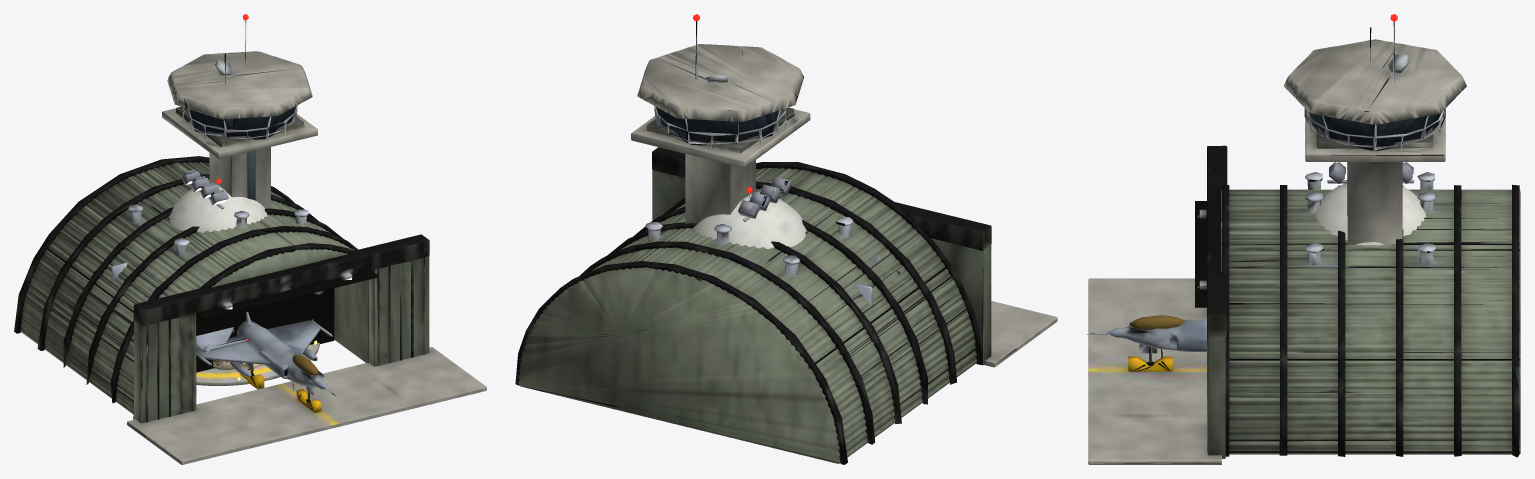
File: modern_decor_military.glb
3 views of the same model, side by side, from view 1: azimuth 30°, elevation 25°; view 2: azimuth 150°, elevation 25°; view 3: azimuth 270°, elevation 25° (orthographic). The views are drawn at different scales.
Parts seen in each view (by area): view 1: Hangar, Tower, Radome, Heli, Jet, LightTower; view 2: Hangar, Tower, Radome, LightTower; view 3: Hangar, Tower, Radome, LightTower.
Part boxes in pixels (x1=…): Hangar: x1=14, y1=156, x2=486, y2=464; Tower: x1=162, y1=14, x2=317, y2=332; Radome: x1=169, y1=178, x2=267, y2=232; Heli: x1=145, y1=293, x2=319, y2=385; Jet: x1=111, y1=262, x2=250, y2=353; LightTower: x1=182, y1=169, x2=228, y2=209; Hangar: x1=515, y1=147, x2=1057, y2=464; Tower: x1=631, y1=14, x2=810, y2=228; Radome: x1=693, y1=187, x2=806, y2=248; LightTower: x1=738, y1=177, x2=791, y2=221; Hangar: x1=1087, y1=145, x2=1520, y2=464; Tower: x1=1283, y1=14, x2=1466, y2=244; Radome: x1=1315, y1=183, x2=1426, y2=245; LightTower: x1=1327, y1=162, x2=1414, y2=183.
Bounding box in the file's own units: 4.6 × 4.51 × 4.64.
5 materials, 1 textured.
